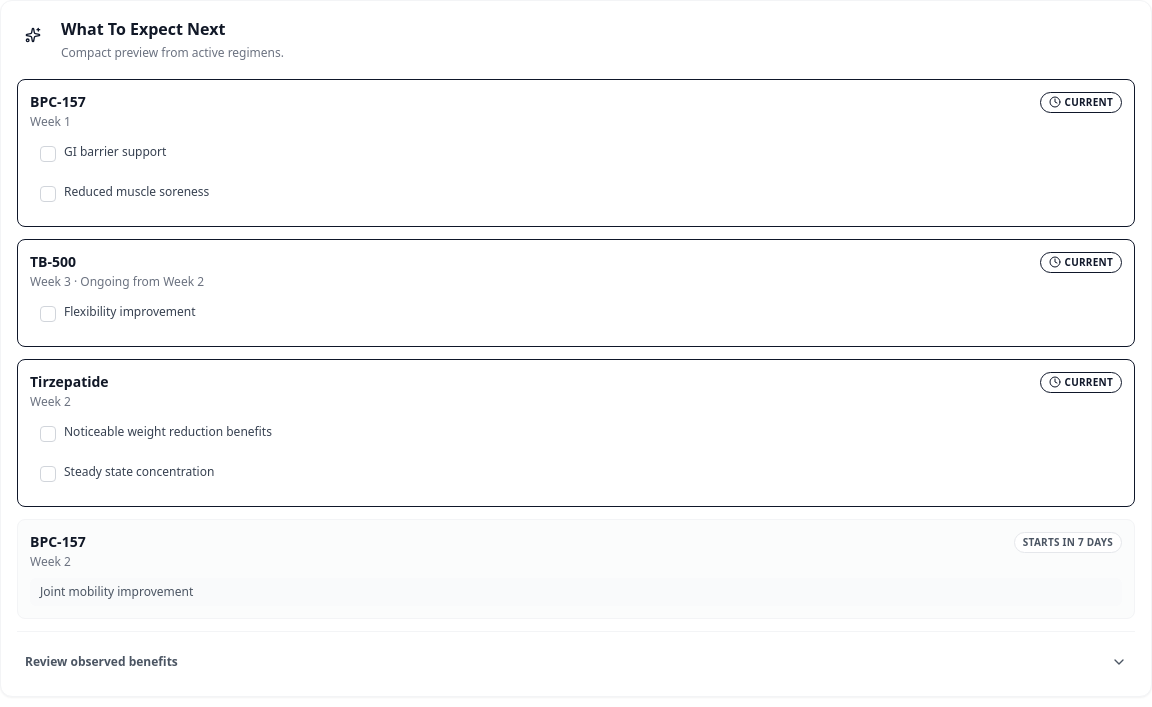
Test: BenefitsTimeline Component UI/UX with JSDOM › rolls back state and alerts user when server action returns ok = false
Click the button "GI barrier support": (115, 151) [30, 138, 1122, 174]
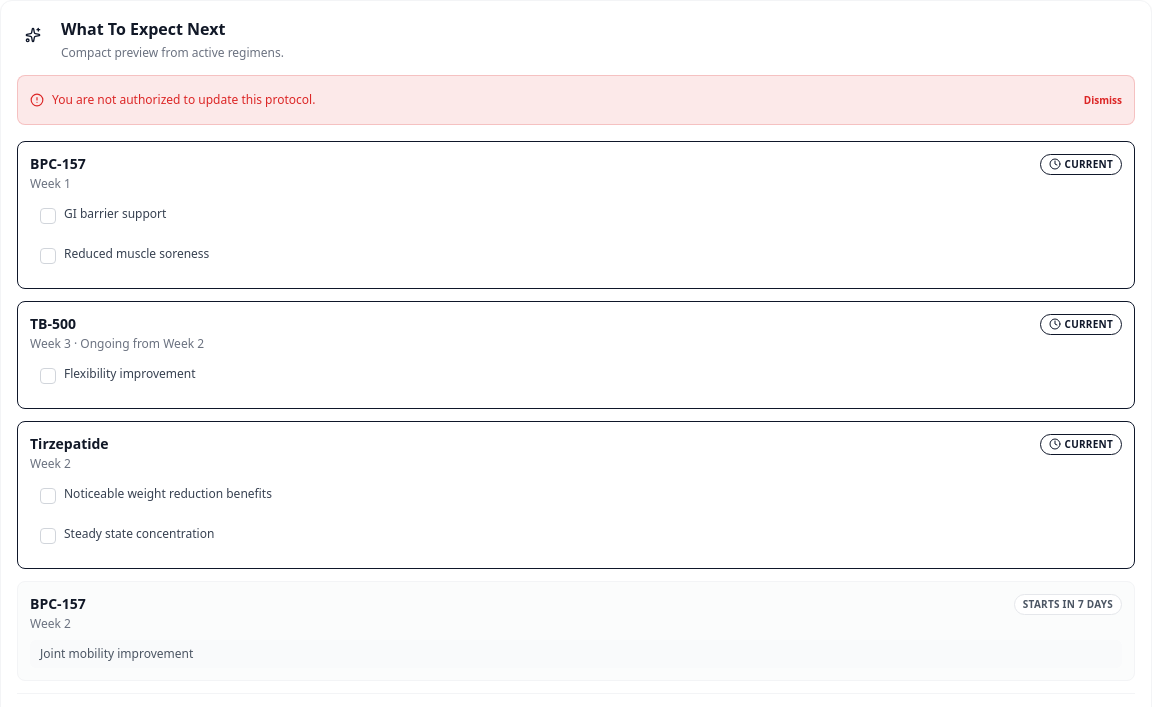
Check: the text "You are not authorized to update this protocol." is shown, box [52, 92, 315, 108]
